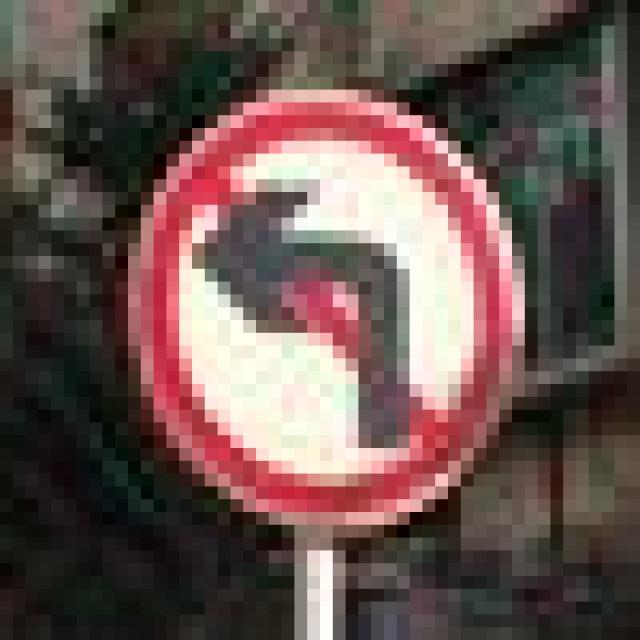left turn prohibited: (118, 88, 535, 547)
